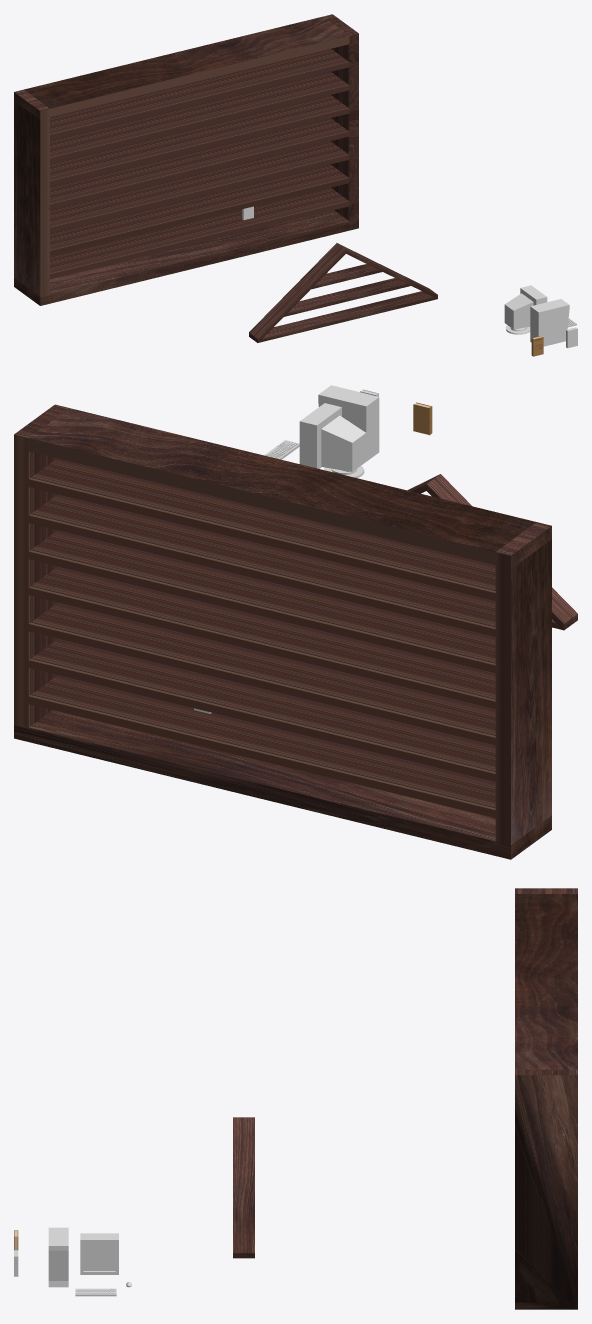
Rendered from fibonacci.fbx.
3 renders of one model, top to bottom at view 1: azimuth 30°, elevation 25°; view 2: azimuth 150°, elevation 25°; view 3: azimuth 270°, elevation 25°, orthographic. The views are drawn at different scales.
Parts seen in each view (by area): view 1: Cube, Cube.001, Cube.002, Cube.075, Cube.003, Cube.005, Cube.004; view 2: Cube, Cube.005, Cube.075, Cube.001; view 3: Cube, Cube.001, Cube.005, Cube.075.
Part boxes in pixels (<box>): Cube: <box>14,14,358,305</box>; Cube.001: <box>249,243,437,342</box>; Cube.002: <box>258,291,437,342</box>; Cube.075: <box>530,299,569,346</box>; Cube.003: <box>284,278,410,316</box>; Cube.005: <box>504,285,547,334</box>; Cube.004: <box>311,264,382,289</box>; Cube: <box>14,404,551,859</box>; Cube.005: <box>299,403,366,477</box>; Cube.075: <box>318,385,379,461</box>; Cube.001: <box>407,474,577,630</box>; Cube: <box>515,888,577,1309</box>; Cube.001: <box>233,1117,254,1258</box>; Cube.005: <box>80,1233,118,1274</box>; Cube.075: <box>48,1227,68,1287</box>.
Size of the model in its own units: 780 by 410 by 895.
